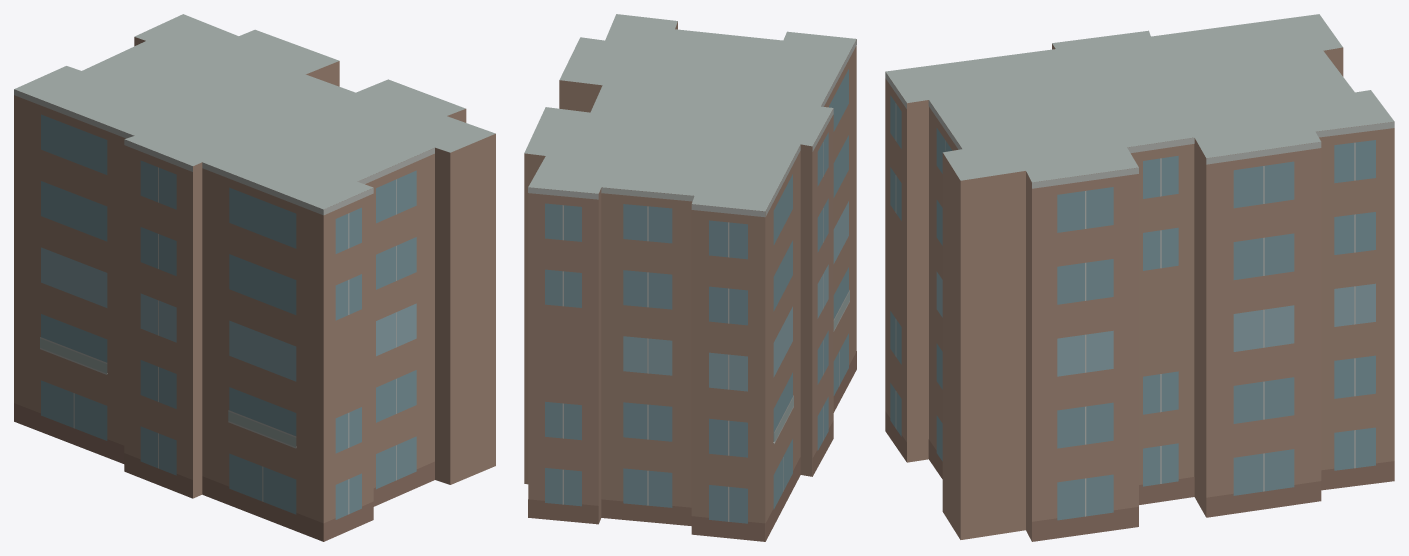
Rendered from survey-upis-32852302.glb.
The picture shows the model from 3 angles, left to right: view 1: azimuth 30°, elevation 25°; view 2: azimuth 150°, elevation 25°; view 3: azimuth 270°, elevation 25°; orthographic projection. The views are drawn at different scales.
Visible parts, largest first — view 1: survey-upis-32852302.tmp; view 2: survey-upis-32852302.tmp; view 3: survey-upis-32852302.tmp.
Part boxes in pixels (x1,y1,x2,y2): survey-upis-32852302.tmp: (14, 14, 495, 541); survey-upis-32852302.tmp: (524, 14, 856, 541); survey-upis-32852302.tmp: (885, 14, 1394, 541).
Size of the model in its own units: 13.83 by 13.75 by 17.67.
